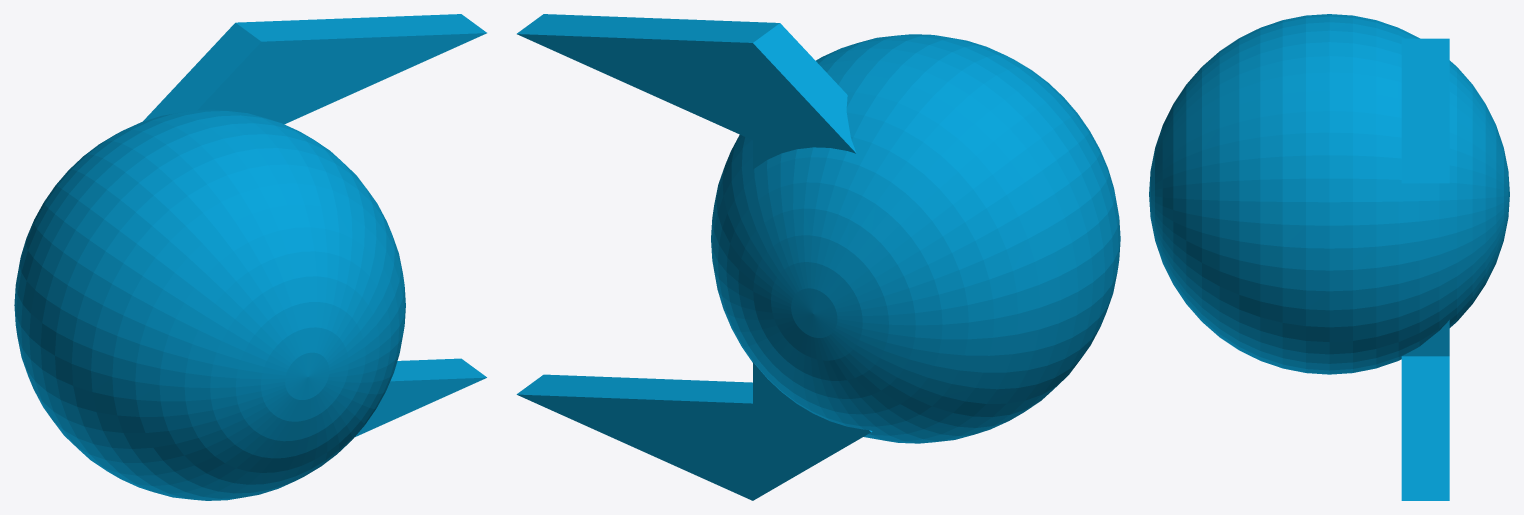
Rendered from tinker.obj.
3 views of the same model, side by side, from view 1: azimuth 30°, elevation 25°; view 2: azimuth 150°, elevation 25°; view 3: azimuth 270°, elevation 25° (orthographic). The views are drawn at different scales.
Visible parts, largest first — view 1: obj_0; view 2: obj_0; view 3: obj_0.
Boxes of the visible parts, left/top/right/bottom form: obj_0: left=14, top=14, right=486, bottom=500; obj_0: left=516, top=14, right=1120, bottom=500; obj_0: left=1149, top=14, right=1509, bottom=500.
Bounding box in the file's own units: 43 × 37 × 30.
